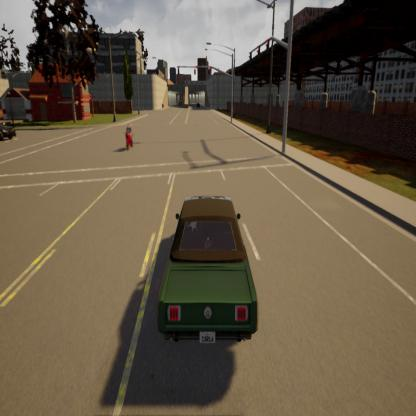Cars: (148, 168, 260, 374), (0, 102, 18, 154), (124, 122, 135, 152)
